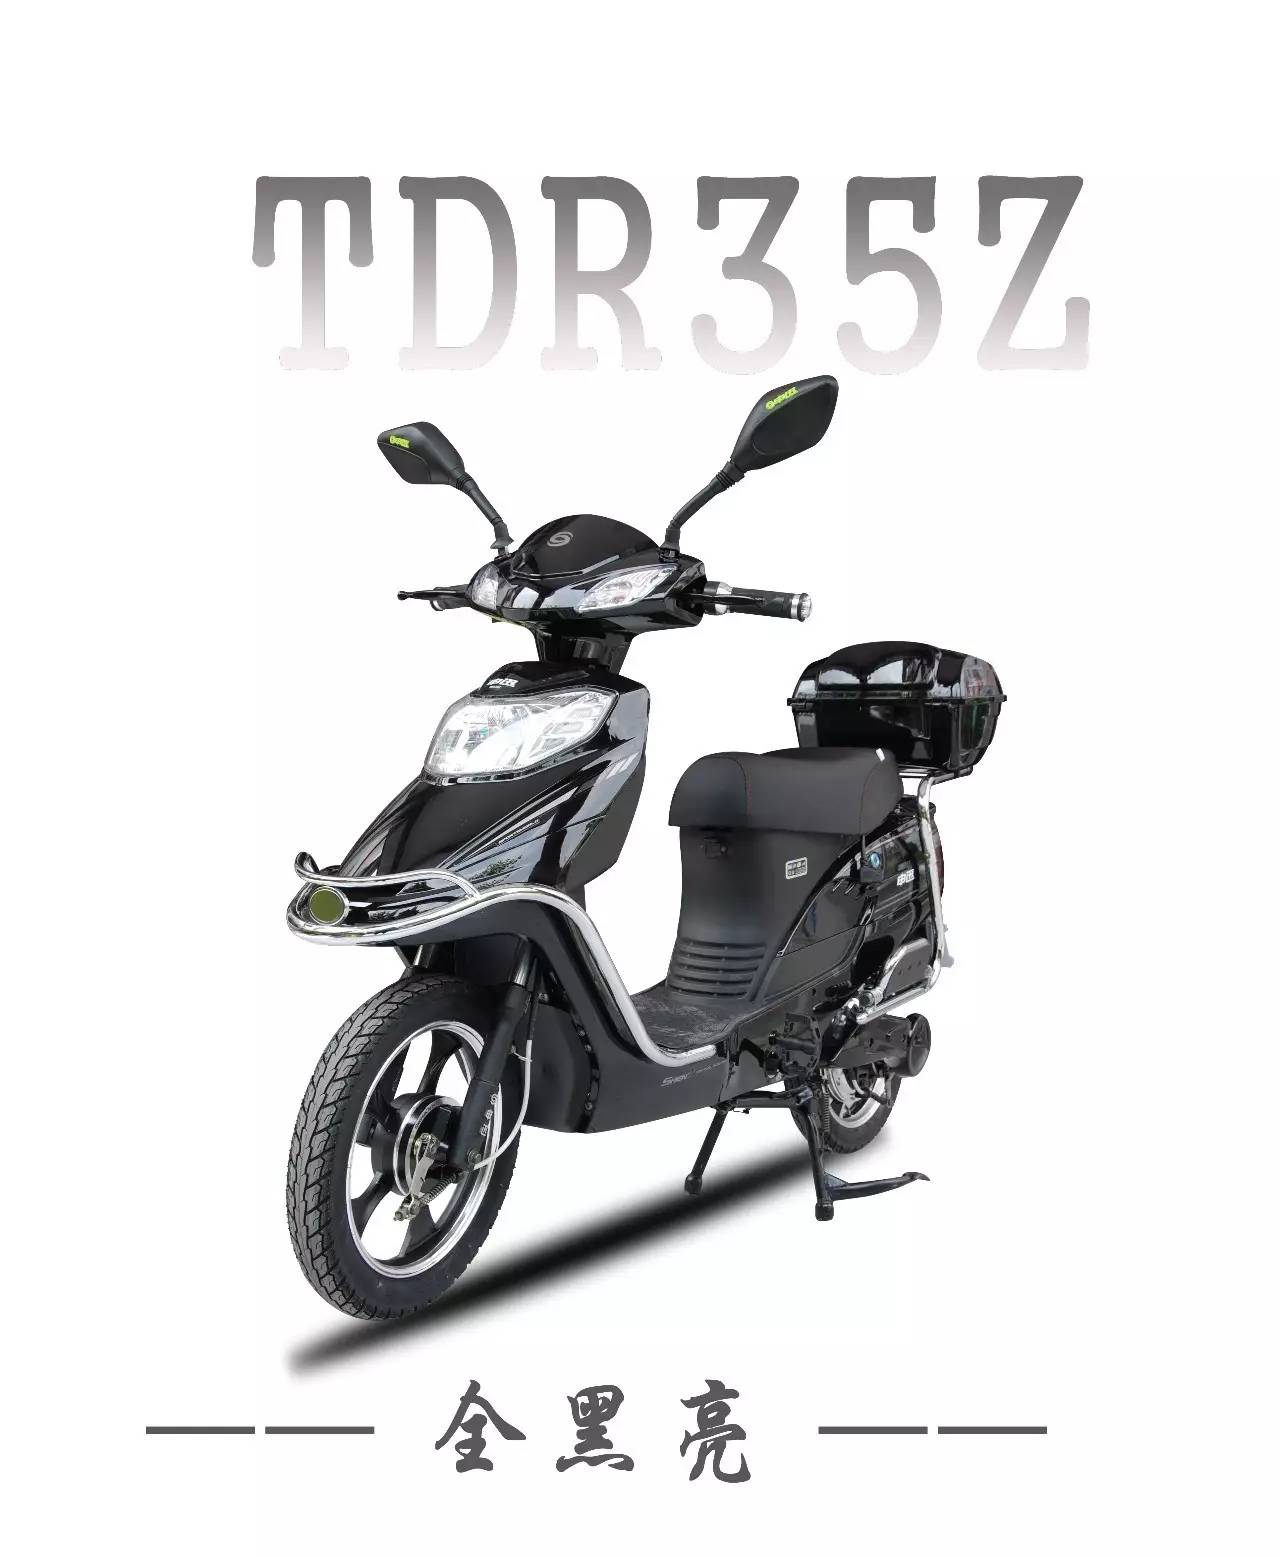电动车: (266, 369, 1016, 1379)
